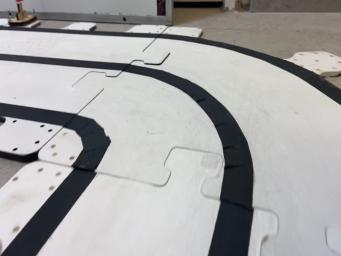street: (0, 26, 341, 255), (0, 26, 341, 255), (0, 26, 341, 255), (0, 26, 341, 255), (0, 26, 341, 255), (0, 26, 341, 255)
